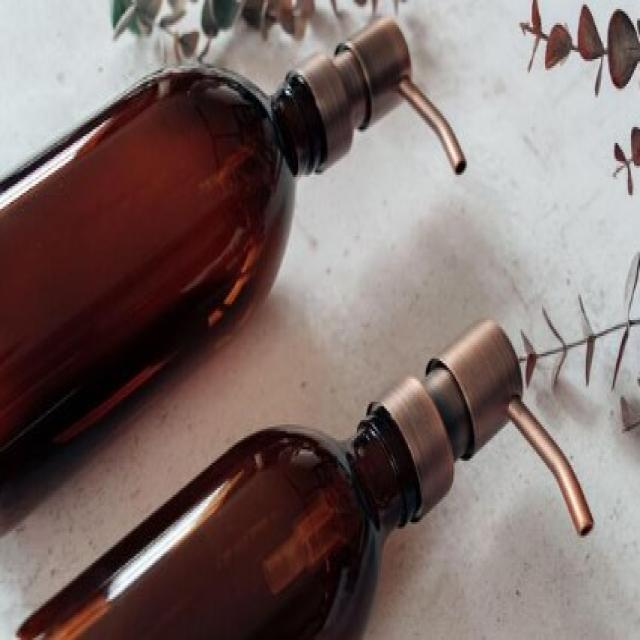electronic: (0, 18, 595, 640)
